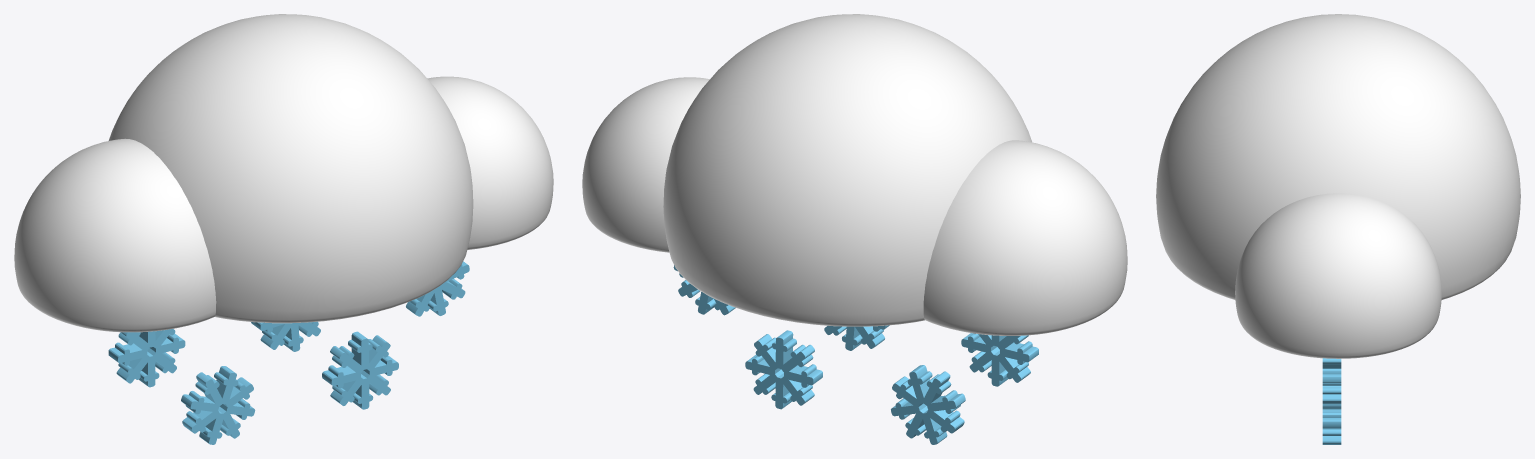
File: cloud_with_snow.glb
3 renders of one model, left to right at view 1: azimuth 30°, elevation 25°; view 2: azimuth 150°, elevation 25°; view 3: azimuth 270°, elevation 25°, orthographic. The views are drawn at different scales.
Visible parts, largest first — view 1: Cube.209; view 2: Cube.209; view 3: Cube.209.
Boxes of the visible parts, x1,y1,x2,y2 form: Cube.209: [14, 14, 553, 444]; Cube.209: [582, 14, 1127, 444]; Cube.209: [1156, 14, 1520, 444].
Bounding box in the file's own units: 2.15 × 1.57 × 1.37.
Materials: 1 (1 with a texture image).
